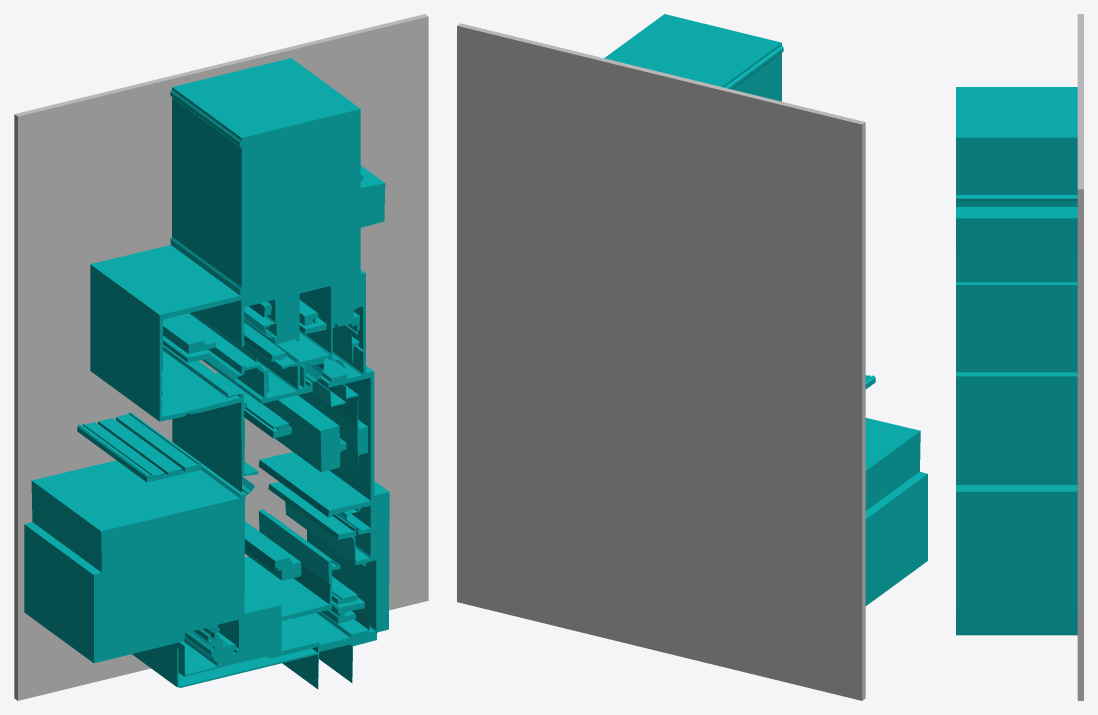
3 views of the same model, side by side, from view 1: azimuth 30°, elevation 25°; view 2: azimuth 150°, elevation 25°; view 3: azimuth 270°, elevation 25° (orthographic). The views are drawn at different scales.
Parts seen in each view (by area): view 1: world; view 2: world; view 3: world.
Part boxes in pixels (box(x1,y1,x2,y2)): world: box(14, 14, 428, 700); world: box(457, 14, 927, 700); world: box(956, 14, 1083, 700).
Size of the model in its own units: 10.23 by 13.91 by 3.15.
